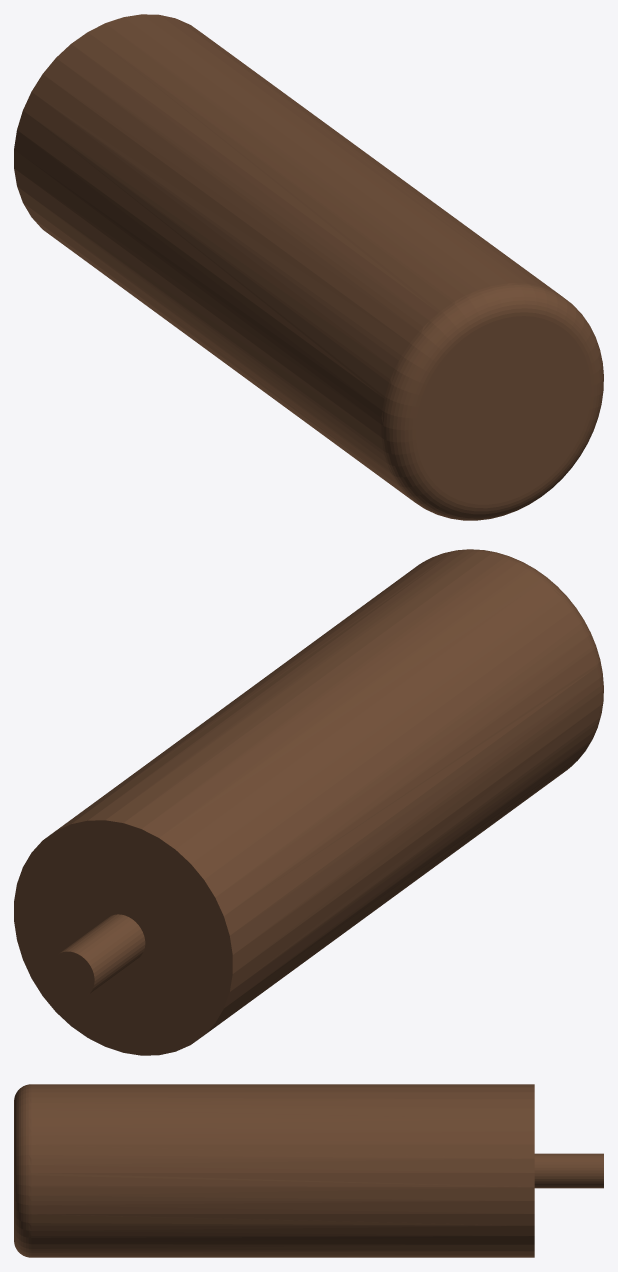
The model's file is pied.glb.
The picture shows the model from 3 angles, top to bottom: view 1: azimuth 30°, elevation 25°; view 2: azimuth 150°, elevation 25°; view 3: azimuth 270°, elevation 25°; orthographic projection. The views are drawn at different scales.
Parts seen in each view (by area): view 1: Assem1 - pieds-1; view 2: Assem1 - pieds-1; view 3: Assem1 - pieds-1.
Boxes of the visible parts, x1=… form: Assem1 - pieds-1: x1=14, y1=14, x2=603, y2=520; Assem1 - pieds-1: x1=14, y1=549, x2=603, y2=1055; Assem1 - pieds-1: x1=14, y1=1084, x2=603, y2=1257.
Size of the model in its own units: 49.98 by 50 by 170.
